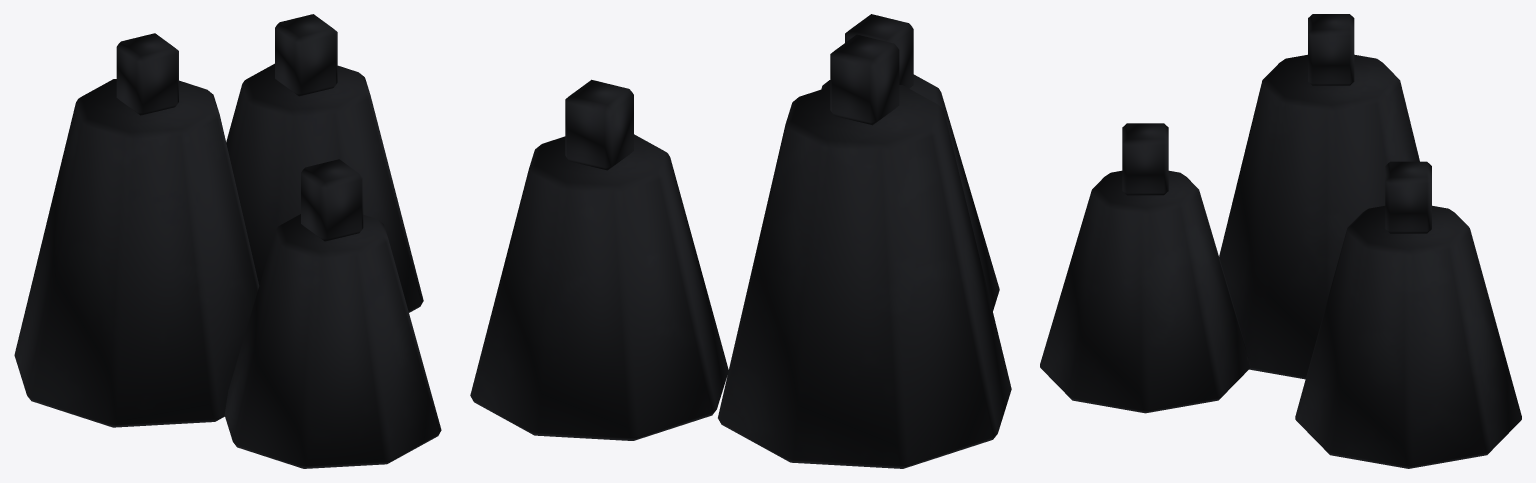
Rendered from Bolsas_Basura.fbx.
3 views of the same model, side by side, from view 1: azimuth 30°, elevation 25°; view 2: azimuth 150°, elevation 25°; view 3: azimuth 270°, elevation 25° (orthographic). The views are drawn at different scales.
Parts seen in each view (by area): view 1: Bolsas_Basura; view 2: Bolsas_Basura; view 3: Bolsas_Basura.
Part boxes in pixels (box(x1,y1,x2,y2)): Bolsas_Basura: box(14, 14, 441, 468); Bolsas_Basura: box(470, 14, 1011, 468); Bolsas_Basura: box(1040, 14, 1521, 468).
Size of the model in its own units: 2.96 by 2.2 by 3.11.
